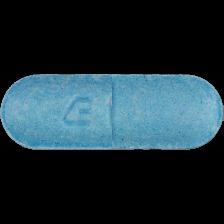43063-133: (0, 0, 224, 224)
